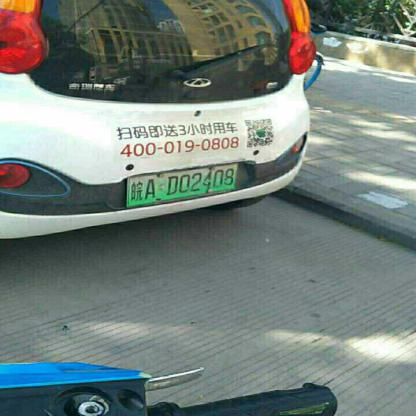lp: (127, 162, 238, 206)
